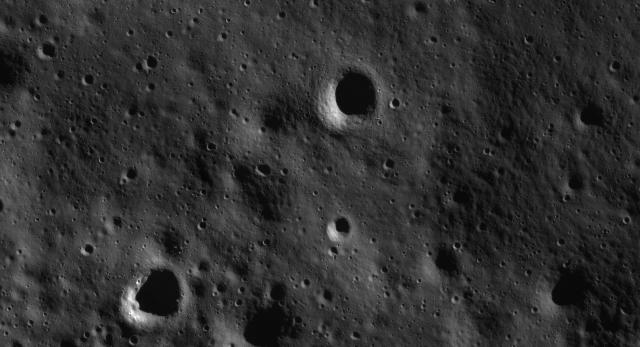crater: (122, 264, 188, 324), (324, 64, 381, 122), (240, 308, 290, 346), (547, 274, 583, 312), (430, 247, 460, 279), (0, 50, 20, 98), (152, 229, 184, 259), (576, 103, 604, 129), (600, 309, 624, 335), (329, 215, 353, 239), (260, 113, 282, 134), (268, 282, 288, 302), (38, 41, 56, 60), (618, 298, 634, 318), (254, 162, 272, 178), (318, 288, 336, 304), (412, 1, 428, 18), (108, 214, 124, 231), (451, 188, 467, 205), (143, 54, 159, 70), (567, 175, 583, 191), (232, 164, 248, 180), (583, 318, 597, 336), (124, 166, 138, 182), (196, 259, 210, 274), (56, 337, 76, 347), (80, 243, 94, 257), (36, 14, 50, 26), (10, 118, 22, 132), (36, 127, 50, 139), (196, 217, 208, 231), (82, 74, 95, 86), (477, 221, 489, 234), (384, 158, 396, 170), (389, 98, 401, 110), (215, 282, 227, 294), (5, 129, 17, 141), (610, 60, 622, 72), (500, 128, 512, 140), (439, 105, 451, 117), (92, 326, 104, 338), (126, 106, 138, 118), (292, 314, 304, 325), (8, 339, 24, 347), (206, 142, 218, 152), (300, 278, 310, 290), (124, 28, 136, 38), (328, 246, 338, 258), (462, 290, 472, 302), (496, 166, 506, 178), (483, 147, 495, 157), (350, 330, 360, 342), (556, 237, 566, 248), (128, 336, 138, 347), (218, 31, 228, 41), (380, 265, 390, 275), (277, 9, 287, 19), (310, 0, 320, 10), (524, 34, 534, 44), (630, 94, 640, 104), (428, 35, 438, 45), (279, 166, 289, 176), (134, 62, 144, 72), (56, 70, 66, 80), (147, 82, 157, 92), (190, 16, 200, 26), (412, 209, 422, 219), (524, 268, 534, 278), (239, 62, 249, 72), (229, 107, 239, 117), (105, 333, 114, 343), (164, 29, 173, 38), (452, 242, 462, 250), (82, 330, 90, 340), (622, 216, 630, 226), (257, 126, 267, 134), (200, 188, 208, 198), (201, 325, 211, 333), (554, 53, 562, 62), (49, 207, 57, 216), (277, 301, 287, 308), (263, 238, 271, 246), (235, 298, 243, 306), (98, 156, 106, 164), (34, 93, 42, 101), (630, 176, 638, 184), (564, 194, 570, 204), (532, 306, 538, 316), (90, 118, 98, 125)
